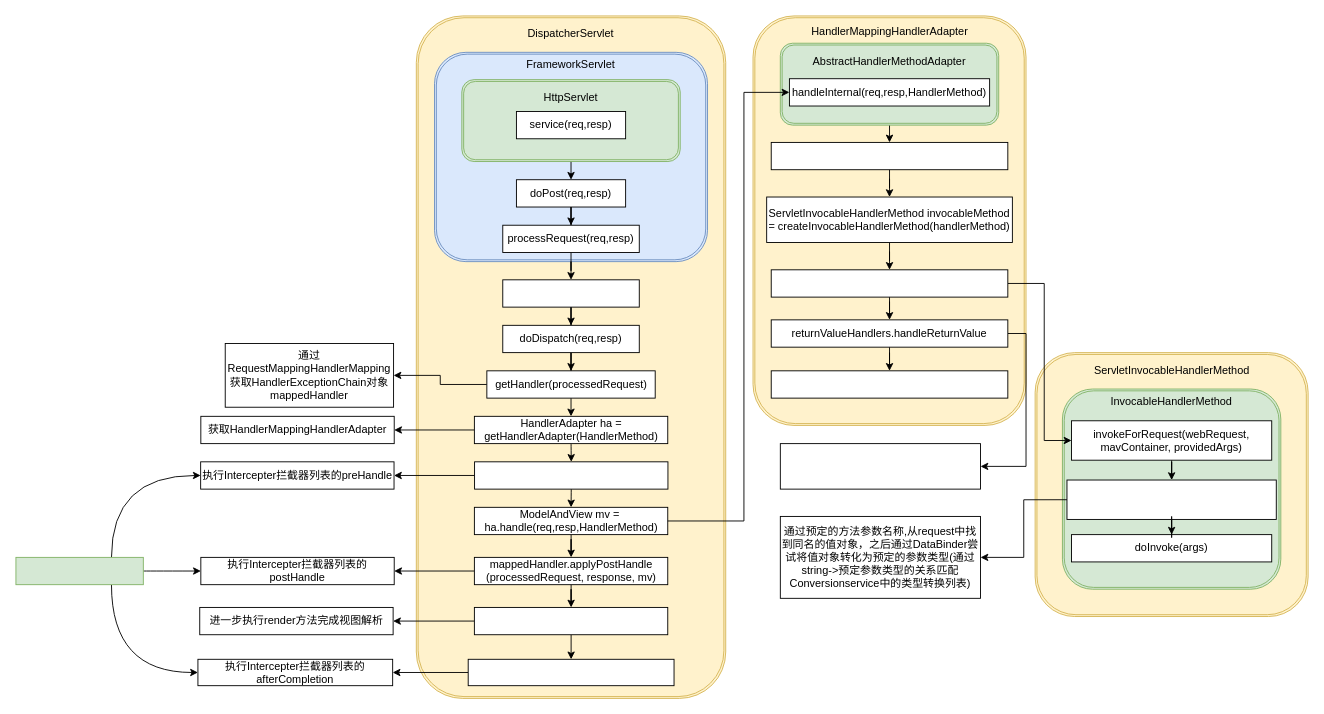
Some shapes in this 1324 by 714 pixel diagram are drawn without their labels. Here are the shapes that lost their labels. From the top down, the centre of each, then its label:
At (x=889, y=156): "invokeHandlerMethod(req,resp,HandlerMethod)".
At (x=570, y=293): "doService(req,resp)".
At (x=889, y=283): "invocableMethod.invokeAndHandle (webRequest, mavContainer)".
At (x=889, y=384): "return getModelAndView (mavContainer, modelFactory, webRequest)".
At (x=571, y=475): "mappedHandler.applyPreHandle (processedRequest, response)".
At (x=880, y=466): "通过Controller方法的返回值和返回类处理视图对象，决定返回视图或数据".
At (x=1171, y=499): "Object[] args = getMethodArgumentValues(webRequest, mavContainer, providedArgs)".
At (x=79, y=570): "Intercepter拦截器接口".
At (x=570, y=621): "processDispatchResult".
At (x=570, y=672): "mappedHandler.triggerAfterCompletion".
